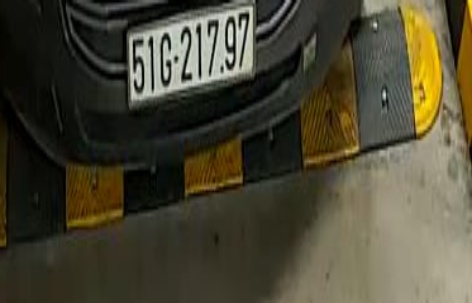plate: (124, 6, 257, 108)
